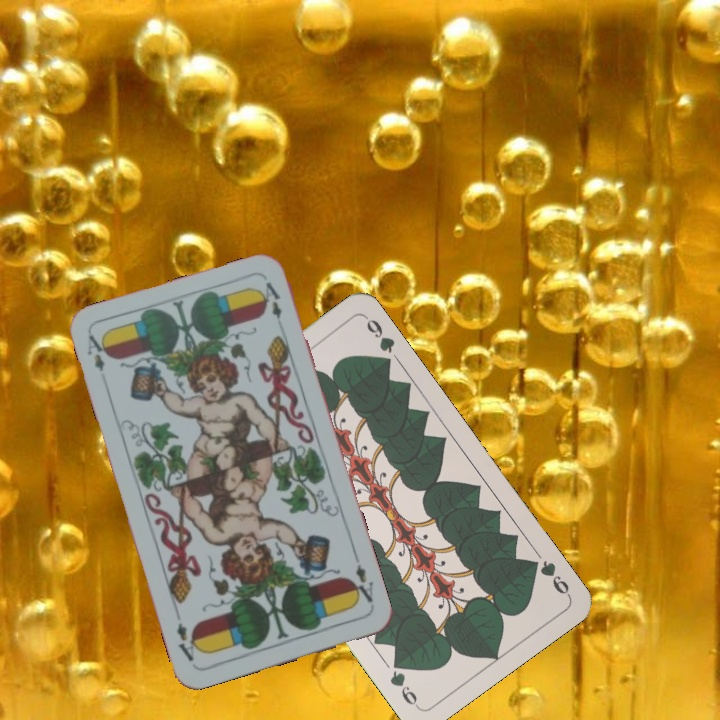EA: (345, 552, 376, 605), (83, 330, 112, 374)
G9: (523, 555, 573, 599)
